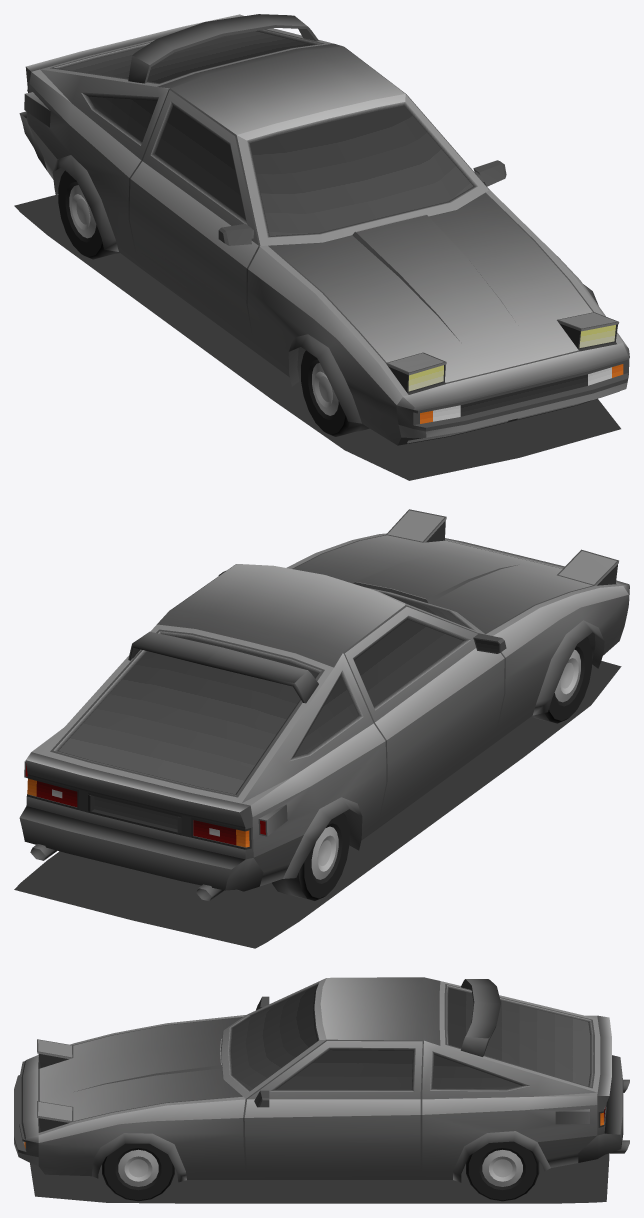
Rendered from supra.FBX.
3 renders of one model, top to bottom at view 1: azimuth 30°, elevation 25°; view 2: azimuth 150°, elevation 25°; view 3: azimuth 270°, elevation 25°, orthographic. The views are drawn at different scales.
Visible parts, largest first — view 1: body, shadow, RF, RR; view 2: body, shadow, RR, RF, back lights; view 3: body, shadow, RL, FL.
Boxes of the visible parts, box(x1,y1,x2,y2) form: body: box(19, 14, 629, 445); shadow: box(14, 194, 620, 480); RF: box(301, 350, 369, 436); RR: box(58, 170, 119, 259); body: box(19, 509, 629, 901); shadow: box(14, 661, 621, 948); RR: box(272, 813, 349, 900); RF: box(531, 637, 591, 723); back lights: box(25, 763, 265, 847); body: box(14, 977, 629, 1182); shadow: box(30, 1153, 609, 1203); RL: box(466, 1141, 539, 1201); FL: box(102, 1143, 174, 1201).
Size of the model in its own units: 71.15 by 50 by 179.
